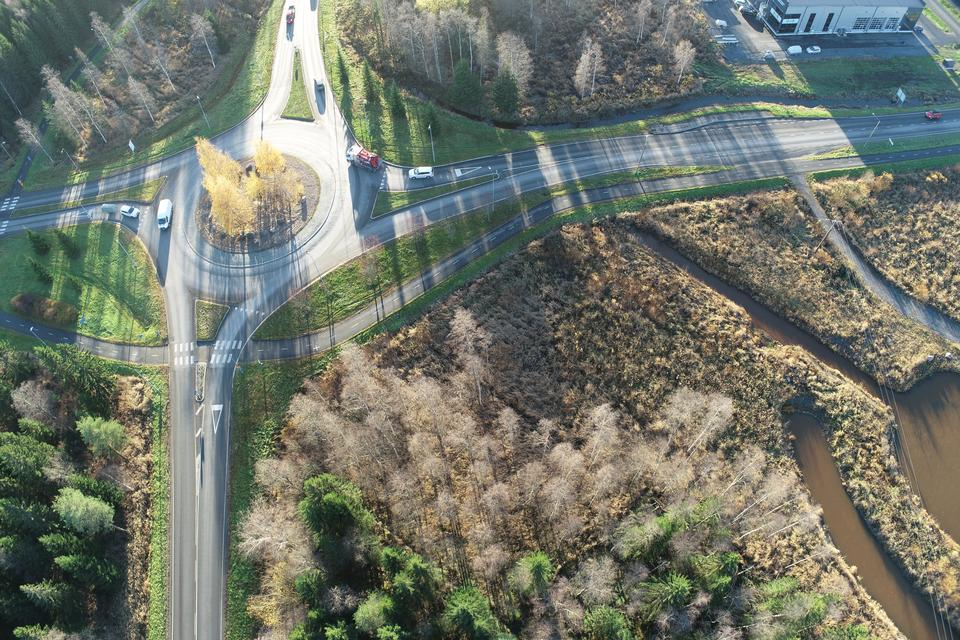intersection: (732, 91, 834, 201), (146, 326, 277, 375)
roundabout: (98, 96, 419, 317)
